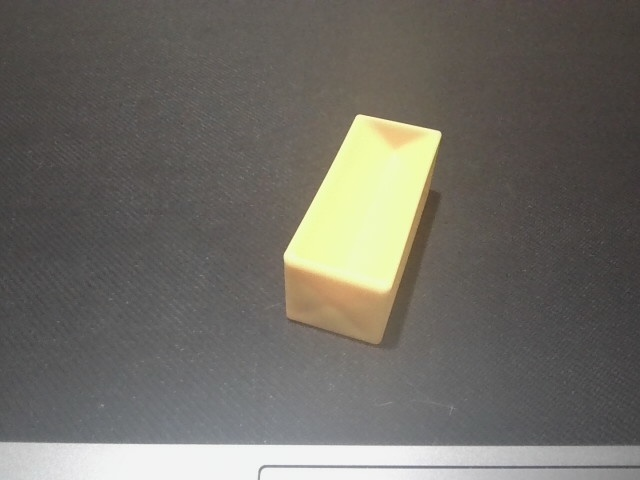YellowSample: (277, 107, 445, 351)
